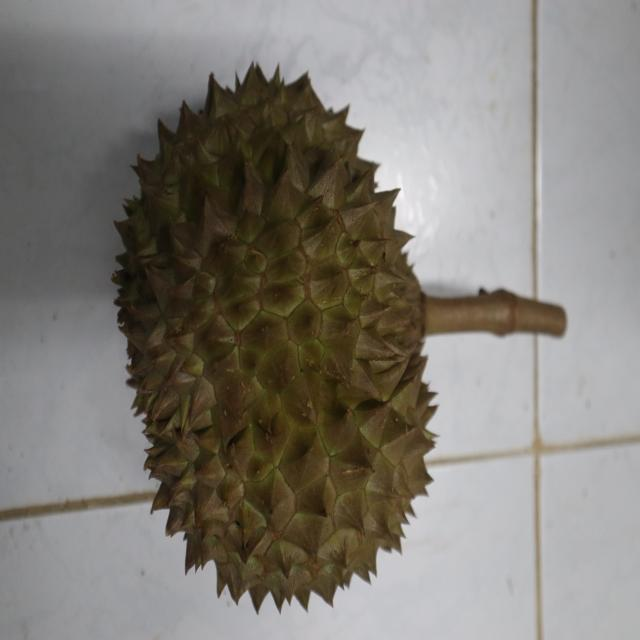mature: (108, 62, 442, 615)
